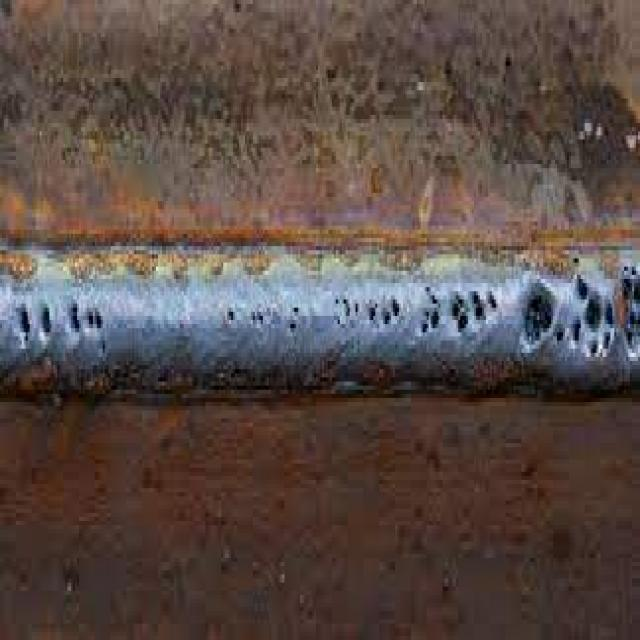Porosity: (417, 284, 504, 340), (570, 272, 616, 360), (519, 281, 565, 355), (66, 292, 109, 364), (9, 297, 57, 346), (620, 256, 640, 365), (367, 286, 403, 335), (331, 284, 361, 339), (286, 301, 302, 336), (249, 307, 269, 333), (221, 296, 237, 328)
